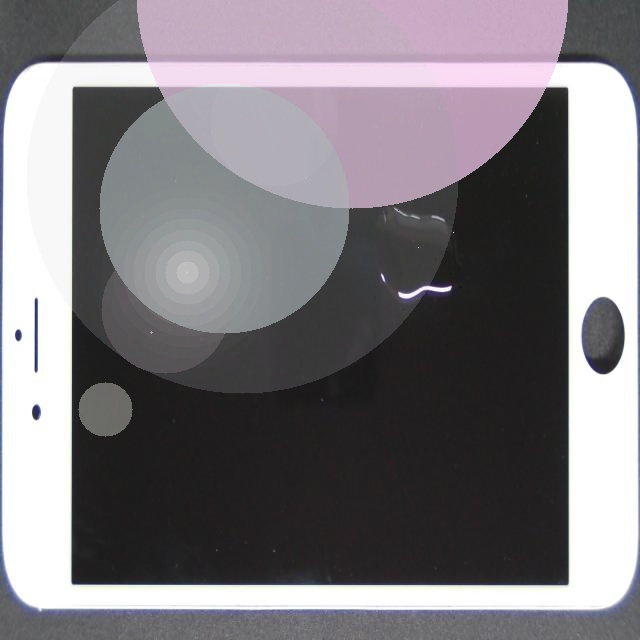oil: (240, 102, 640, 309)
